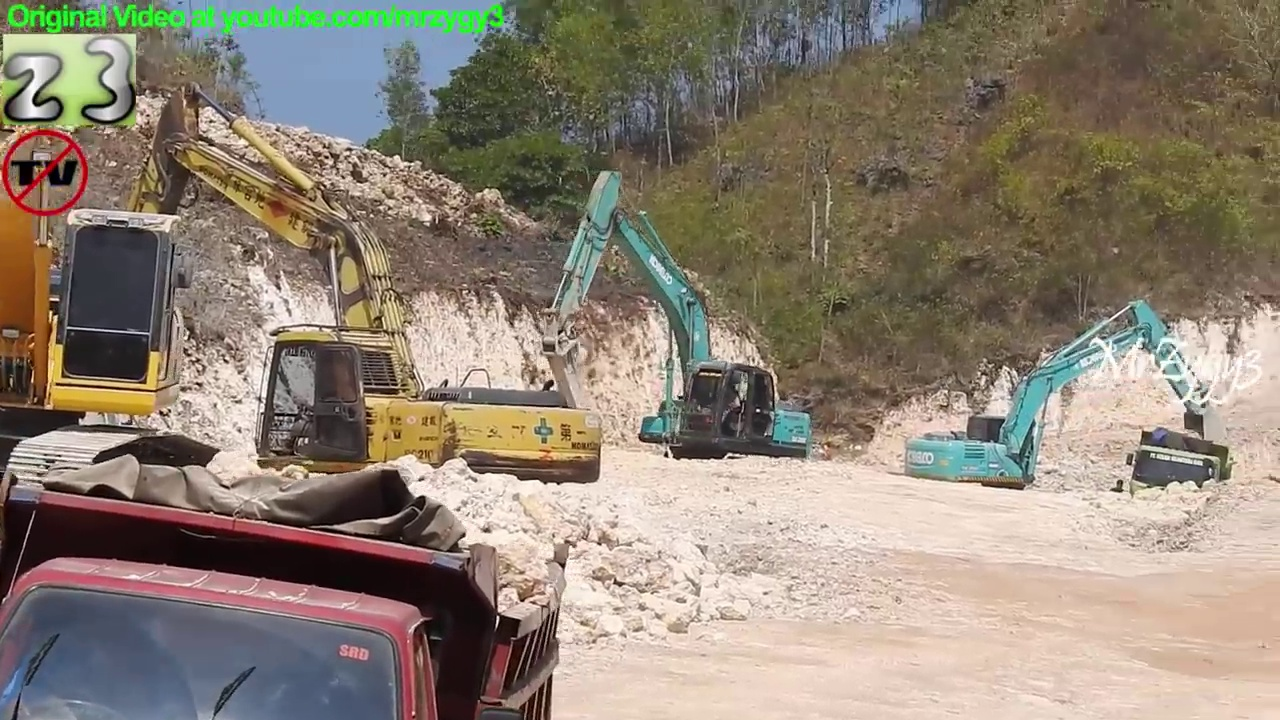excavator: (109, 82, 609, 524), (1, 93, 251, 528), (534, 164, 819, 493), (899, 296, 1229, 520)
truck: (1, 472, 572, 720), (1122, 423, 1240, 537)
